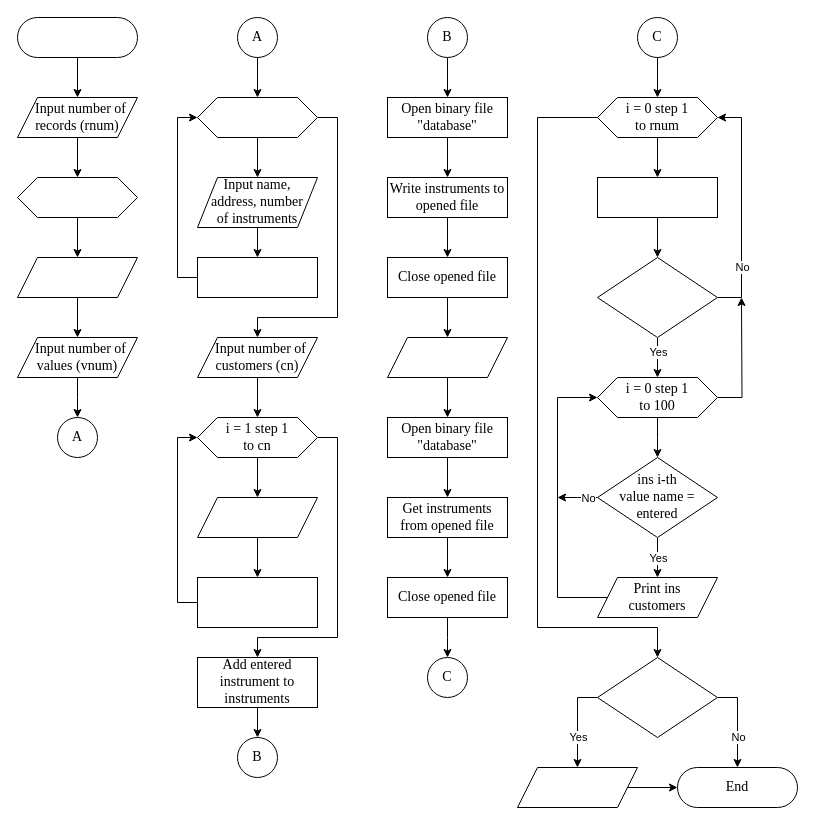
This 815x825 diagram has some shape labels left out. Each missing label, with the centre of its shape:
Add entered cust-omer to instrument customers: (x=257, y=602)
Add entered value to instrument values: (x=257, y=277)
Begin: (x=77, y=37)
i = 1 step 1 to rnum: (x=77, y=197)
i = 1 step 1 to vnum: (x=257, y=117)
Input bounds, error and name: (x=257, y=517)
Input instrument name, guarantee: (x=77, y=277)
Input value name, guarantee: (x=447, y=357)
ins = i-th instrument: (x=657, y=197)
ins guarantee ≥ entered: (x=657, y=297)
Print "No records found": (x=577, y=787)
There was no output: (x=657, y=697)
